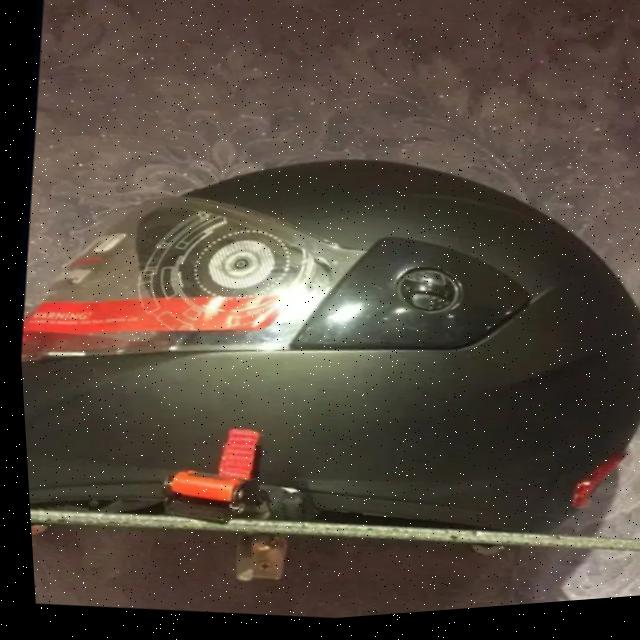Helmet: (6, 100, 640, 637)
